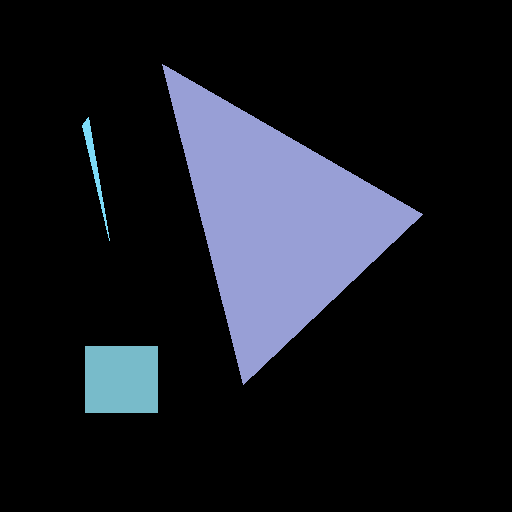square: (85, 346, 157, 412)
triangle: (162, 64, 422, 384), (82, 117, 109, 240)
